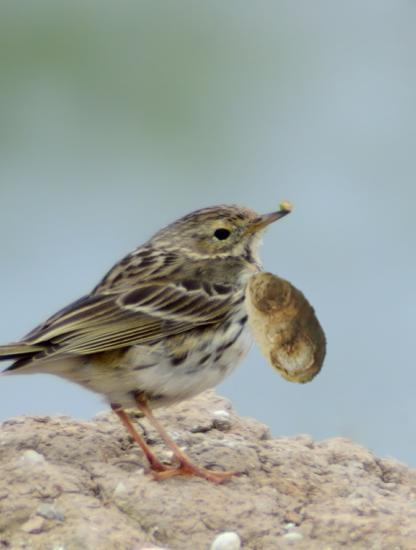Ginger: (223, 265, 347, 389)
